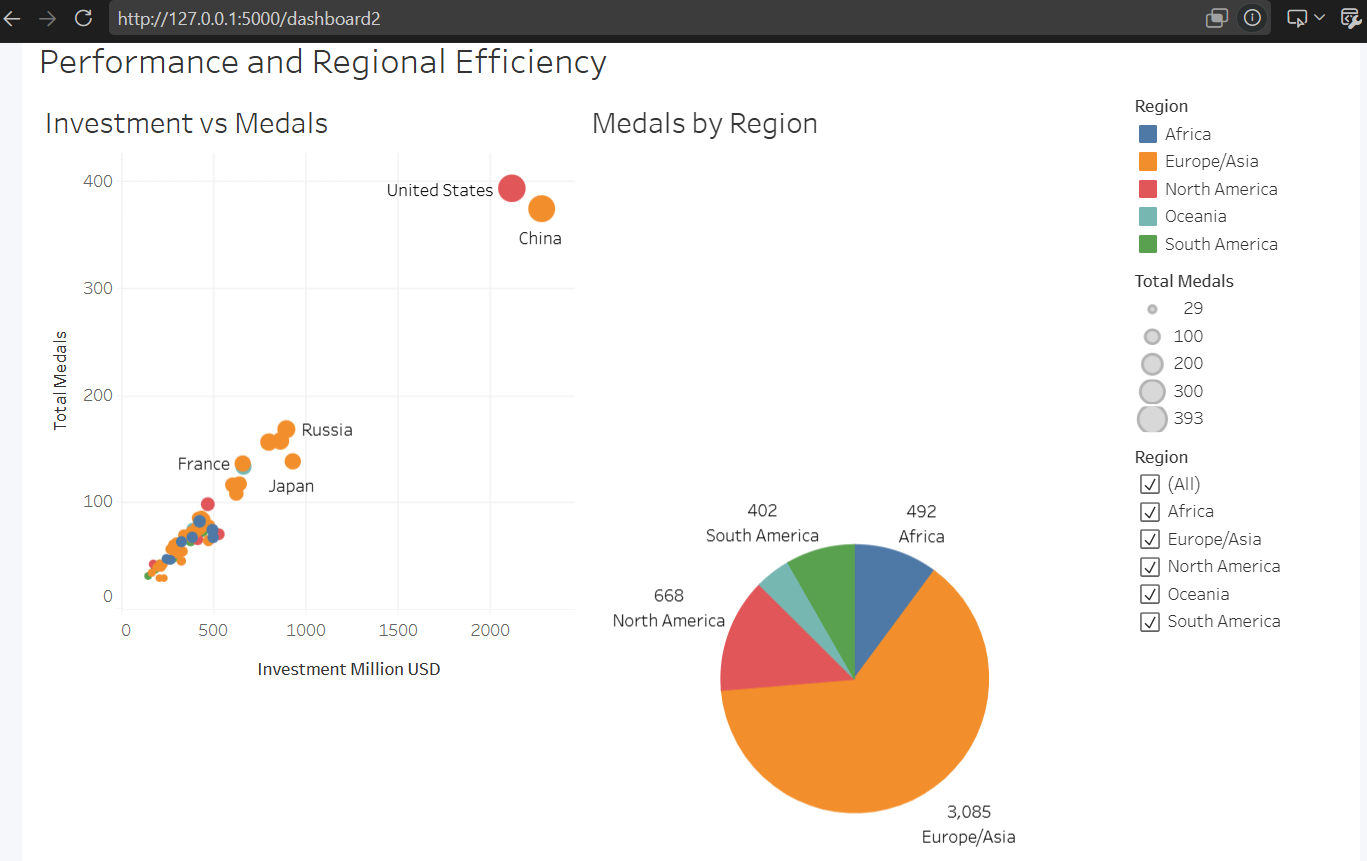

Layout of this report page (visuals, bound fields, positions):
{"tool":"tableau","page":{"name":"Dashboard 2","canvas":[1000,1000],"units":"permille","ordinal":1},"visuals":[{"type":"title","box":[4.8,9.4,990.3,58.8]},{"type":"worksheet","title":"Investment vs Medals","mark":"Circle","rows":["Total_Medals"],"cols":["Investment_Million_USD"],"box":[4.8,68.2,446.9,922.4]},{"type":"worksheet","title":"Medals by Region","mark":"Pie","box":[451.7,68.2,446.9,922.4]},{"type":"legend","title":"Investment vs Medals","param":"[federated.0vy7wdc0vdcy6k16jlxny1f0dmuw].[none:Region:nk]","box":[898.6,68.2,96.6,158.8]},{"type":"legend","title":"Investment vs Medals","param":"[federated.0vy7wdc0vdcy6k16jlxny1f0dmuw].[sum:Total_Medals:qk]","box":[898.6,227.1,96.6,158.8]},{"type":"filter","title":"Medals by Region","param":"[federated.0vy7wdc0vdcy6k16jlxny1f0dmuw].[none:Region:nk]","box":[898.6,385.9,96.6,204.7]}]}

Visuals, with their boxes on the dashboard's canvas, which has no fixed pixel size, in thousandths of its width and height (x1, y1, x2, y2). These are canvas units, not pixel positions in the 1367x861 screenshot, which may show the page scaled, cropped or inside an application window:
title: x1=5 y1=9 x2=995 y2=68
"Investment vs Medals" worksheet (Circle marks): x1=5 y1=68 x2=452 y2=991
"Medals by Region" worksheet (Pie marks): x1=452 y1=68 x2=899 y2=991
"Investment vs Medals" legend: x1=899 y1=68 x2=995 y2=227
"Investment vs Medals" legend: x1=899 y1=227 x2=995 y2=386
"Medals by Region" filter: x1=899 y1=386 x2=995 y2=591
